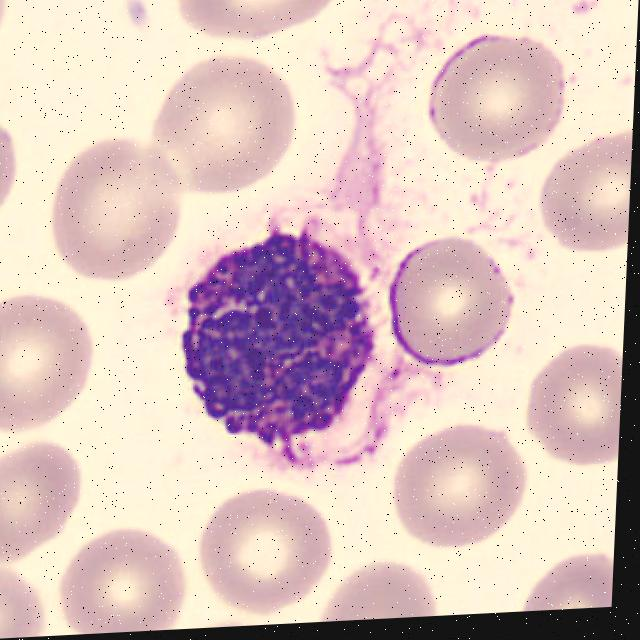basophil: (194, 229, 369, 446)
rbc: (393, 32, 595, 167), (49, 114, 198, 283), (370, 234, 530, 366), (147, 69, 308, 186), (382, 422, 535, 541), (205, 478, 346, 600), (77, 521, 207, 634), (0, 295, 102, 418), (537, 127, 633, 253), (537, 352, 623, 458), (163, 0, 350, 48), (0, 441, 73, 551), (345, 554, 447, 621), (510, 559, 614, 612), (0, 563, 48, 640)
